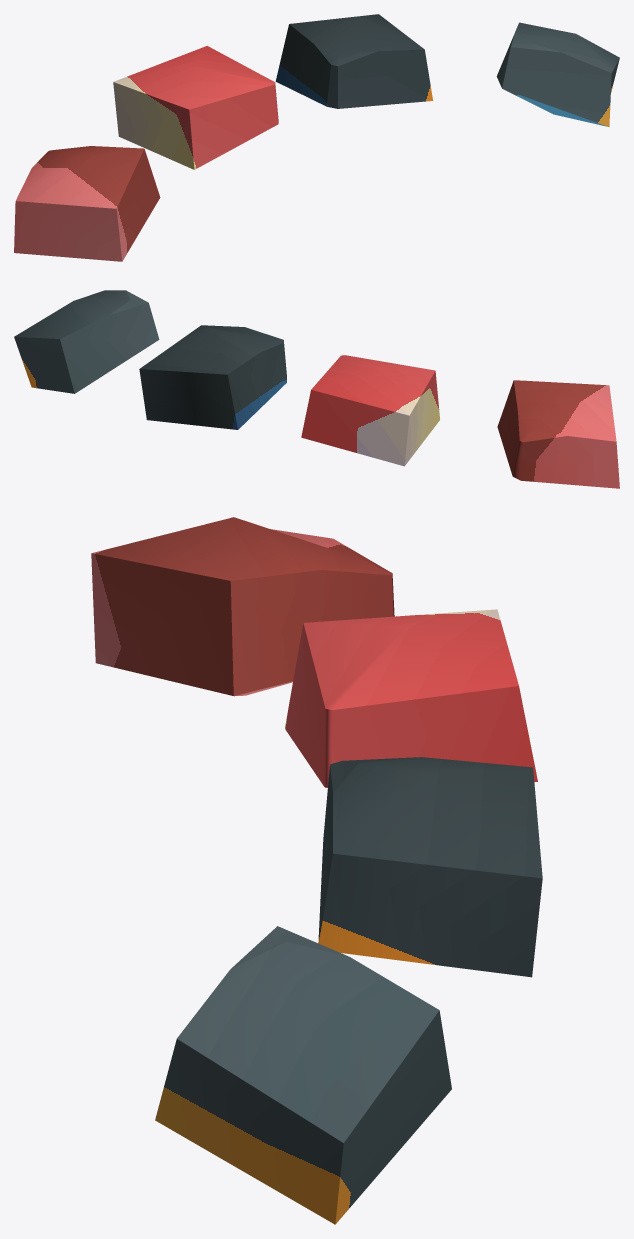
Rendered from Prop_SnowmanMouth.glb.
The picture shows the model from 3 angles, top to bottom: view 1: azimuth 30°, elevation 25°; view 2: azimuth 150°, elevation 25°; view 3: azimuth 270°, elevation 25°; orthographic projection. The views are drawn at different scales.
Visible parts, largest first — view 1: Prop_SnowmanMouth; view 2: Prop_SnowmanMouth; view 3: Prop_SnowmanMouth.
Part boxes in pixels (x1,y1,x2,y2): Prop_SnowmanMouth: (14, 14, 619, 261); Prop_SnowmanMouth: (14, 290, 619, 488); Prop_SnowmanMouth: (91, 517, 542, 1224).
Bounding box in the file's own units: 0.1553 × 0.0316 × 0.0519.
Materials: 1 (1 with a texture image).
